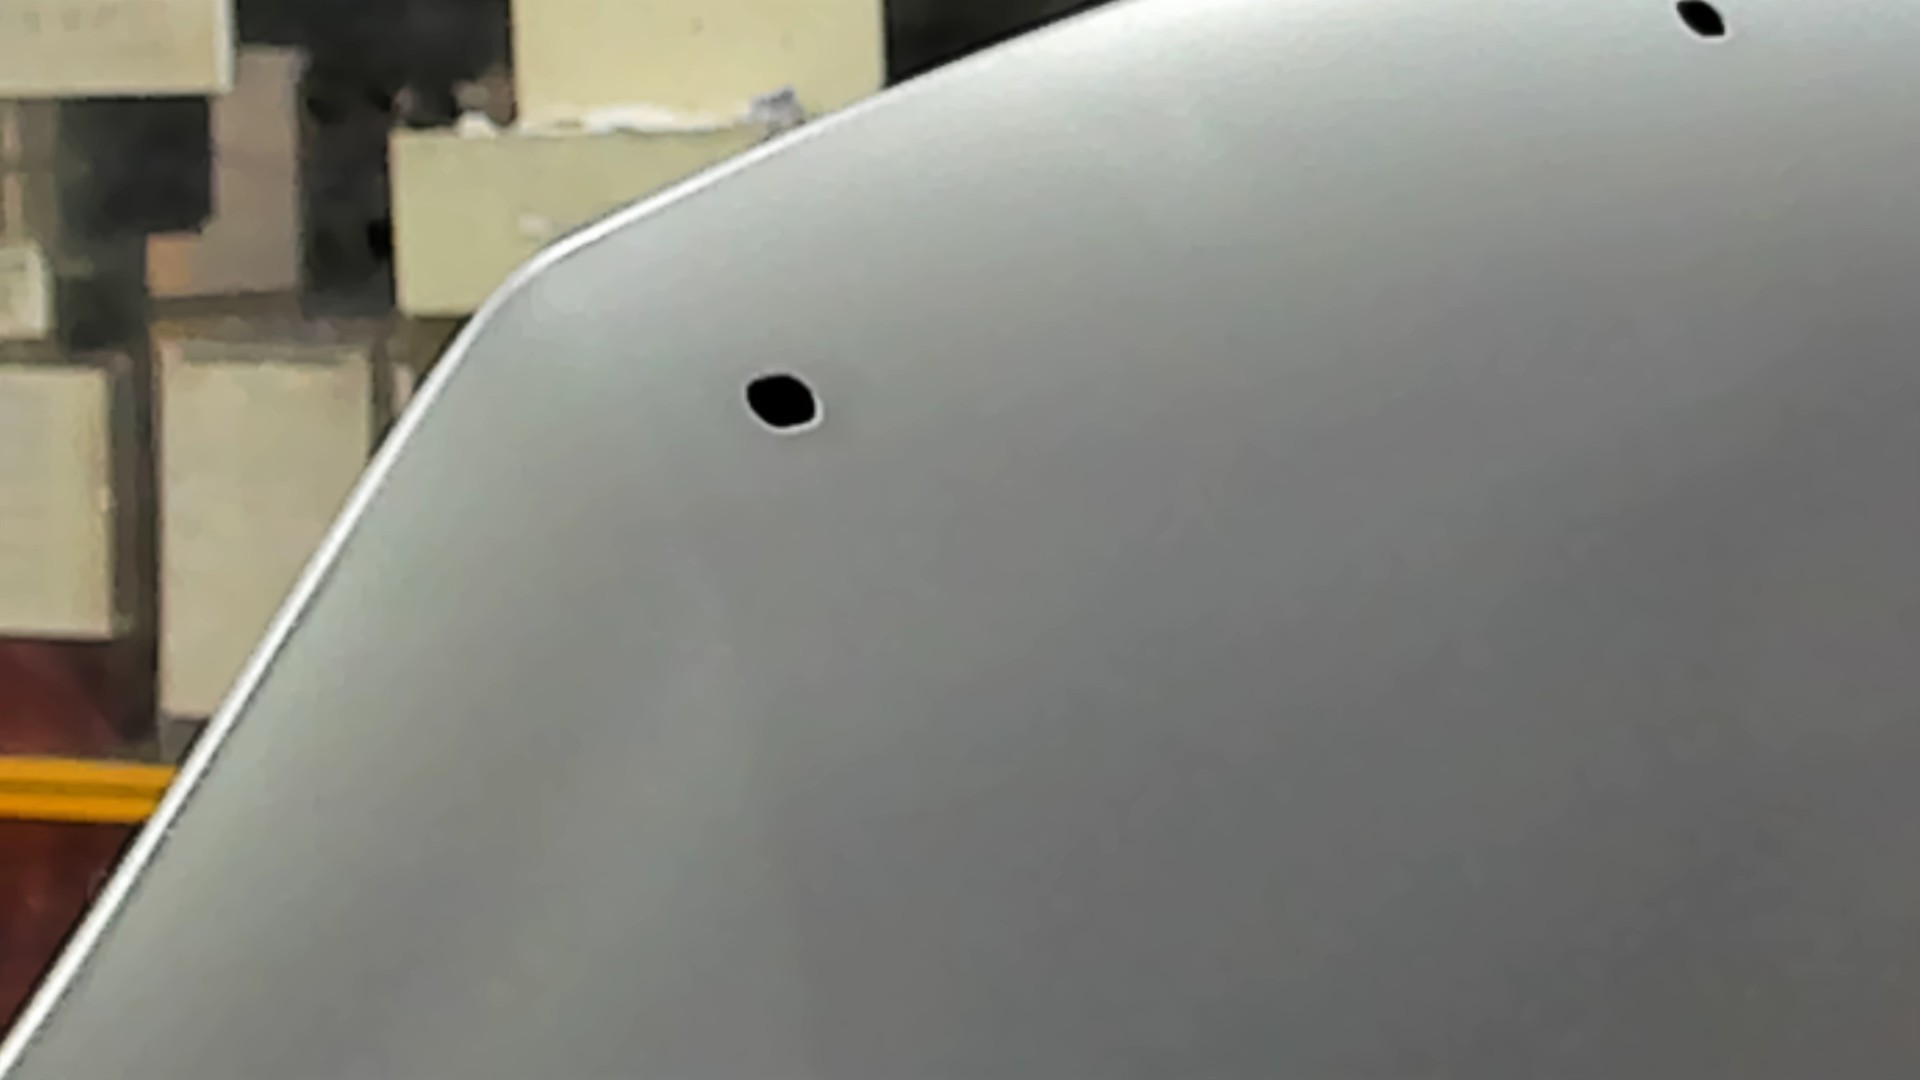amorfo: (738, 368, 837, 438), (1671, 1, 1738, 51)
